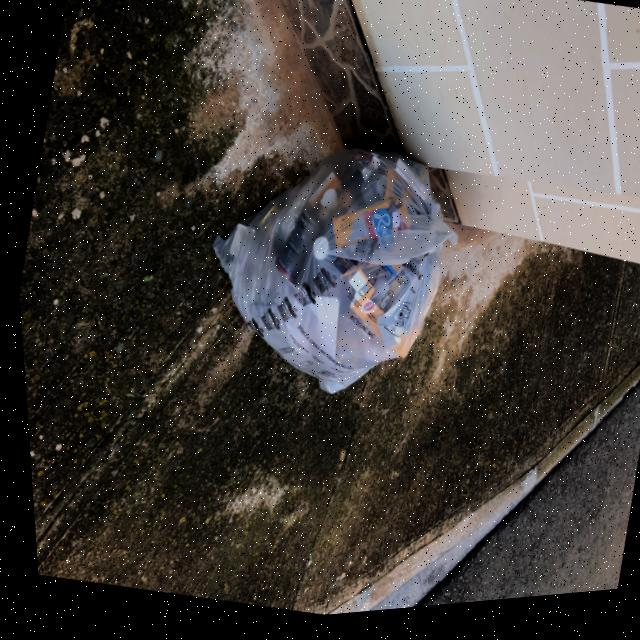Organic Waste -White Bag-: (177, 112, 470, 431)
